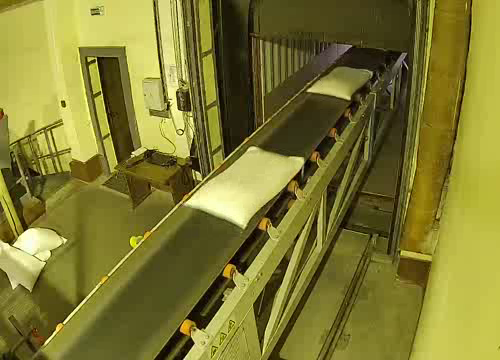bag: (178, 143, 311, 235), (303, 61, 379, 103)
